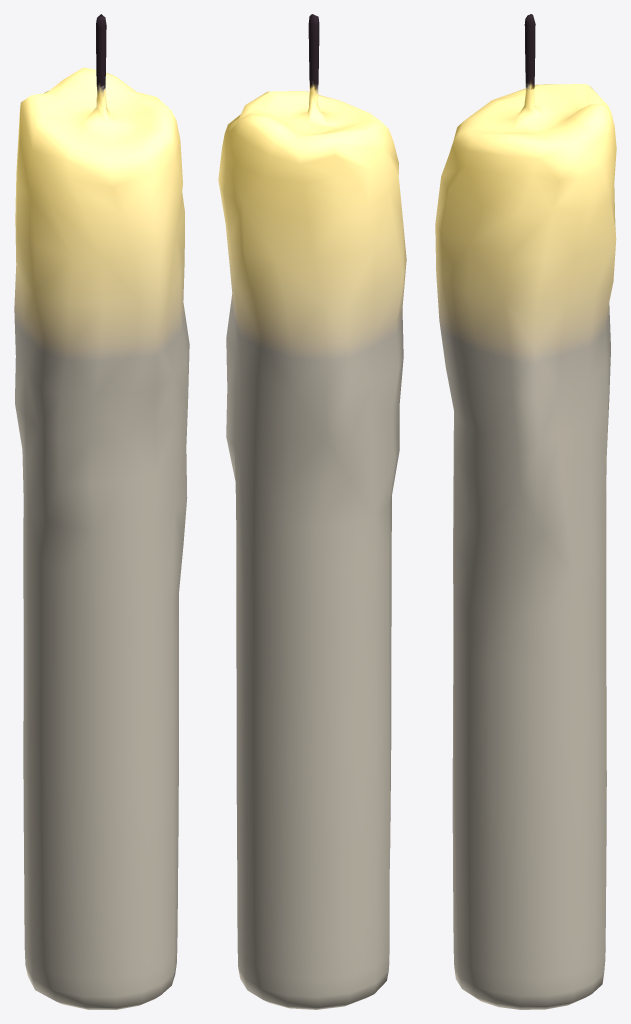
File: candle_low.glb
3 renders of one model, left to right at view 1: azimuth 30°, elevation 25°; view 2: azimuth 150°, elevation 25°; view 3: azimuth 270°, elevation 25°, orthographic.
Parts seen in each view (by area): view 1: CandleLow.uvl; view 2: CandleLow.uvl; view 3: CandleLow.uvl.
Part boxes in pixels (x1,y1,x2,y2): CandleLow.uvl: [14, 14, 189, 1009]; CandleLow.uvl: [218, 14, 406, 1009]; CandleLow.uvl: [435, 14, 616, 1009].
Size of the model in its own units: 4.66 by 26.56 by 4.5.
1 material, 1 textured.
